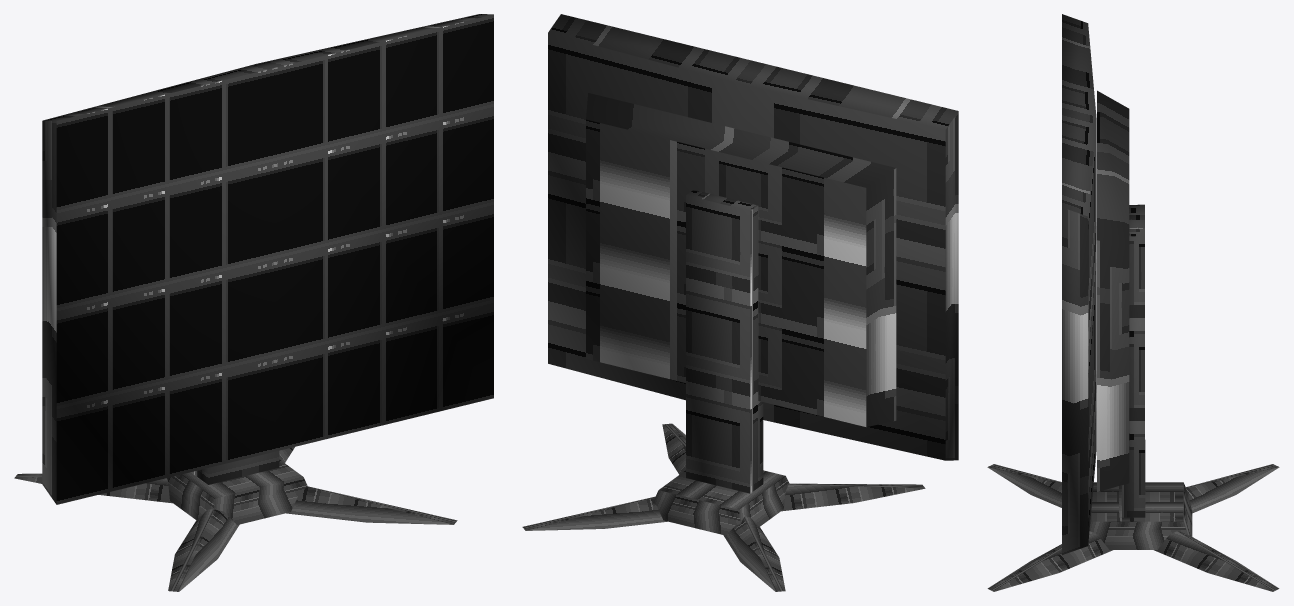
Rendered from 3499IMEL01_16.gltf.
The picture shows the model from 3 angles, left to right: view 1: azimuth 30°, elevation 25°; view 2: azimuth 150°, elevation 25°; view 3: azimuth 270°, elevation 25°; orthographic projection. The views are drawn at different scales.
Visible parts, largest first — view 1: 3499IMEL01_16; view 2: 3499IMEL01_16; view 3: 3499IMEL01_16.
Part boxes in pixels (left/top/right/bottom): 3499IMEL01_16: left=14, top=14, right=493, bottom=591; 3499IMEL01_16: left=522, top=14, right=958, bottom=591; 3499IMEL01_16: left=987, top=14, right=1279, bottom=591.
Size of the model in its own units: 0.8501 by 0.8557 by 0.5435.
Materials: 4 (4 with a texture image).
